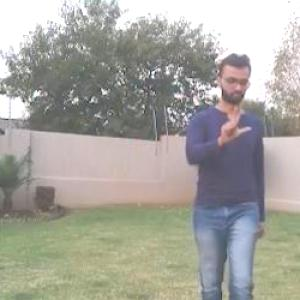land_hand: (214, 107, 258, 150)
